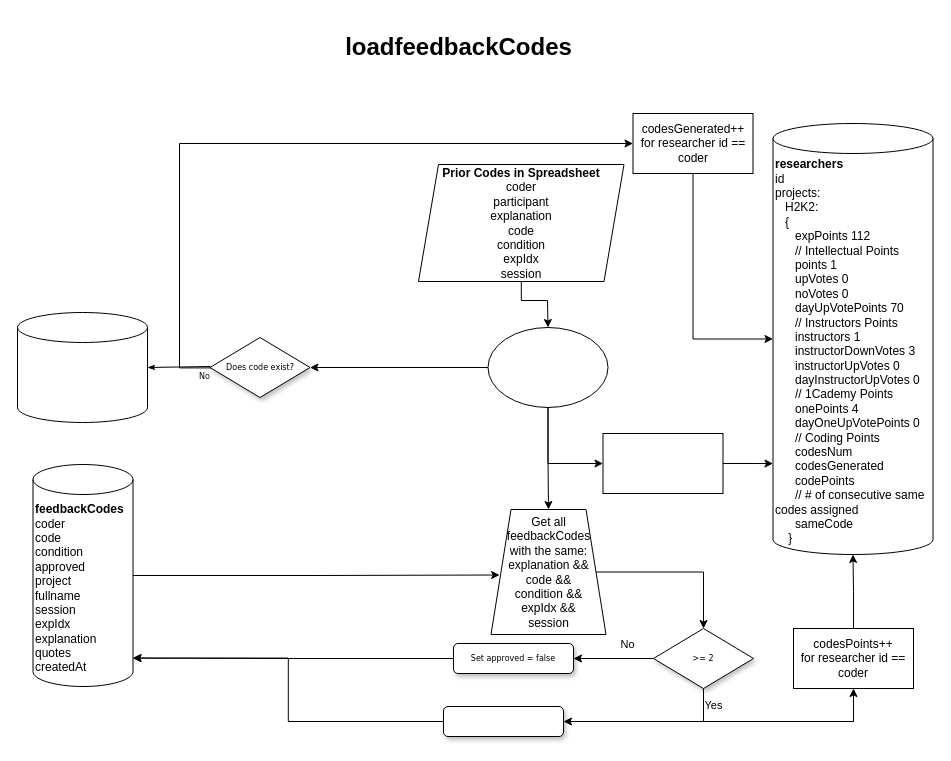
This 951x761 diagram has some shape labels left out. Here are the shapes that lost their labels. From the top down, the centre of each, then its label:
At point 82,367: "feedbackCodeBooks code coder createdAt".
At point 547,367: "For every prior code".
At point 662,463: "codesNum++ for researcher id == coder".
At point 504,723: "Set approved = true".
